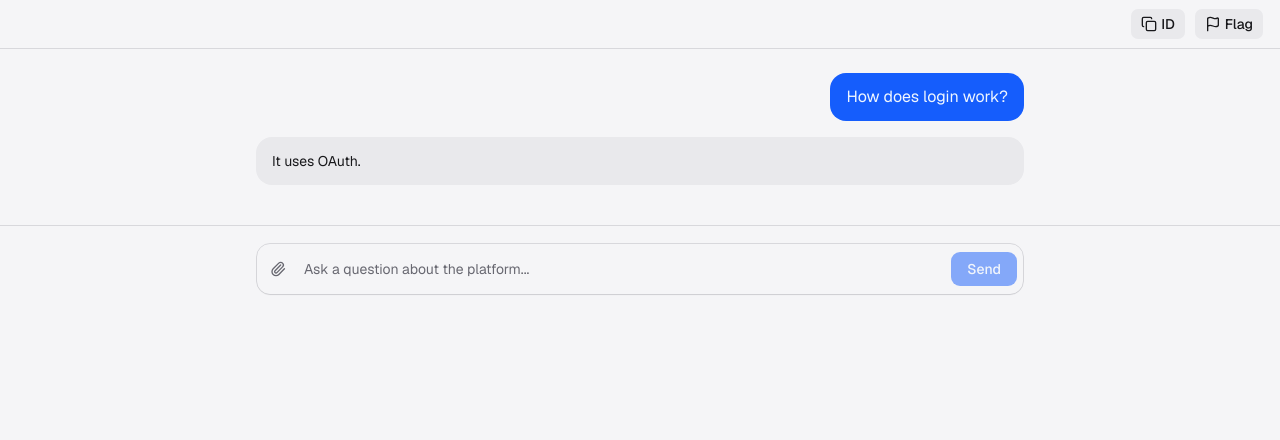
Test case: ChatThread › a repeated text_break does not open an empty bubble
Expected: the text "It uses OAuth." is shown, [272,152,361,170]
Type "How?" into the text box named "message" at [622, 269], box [294,251,950,287]
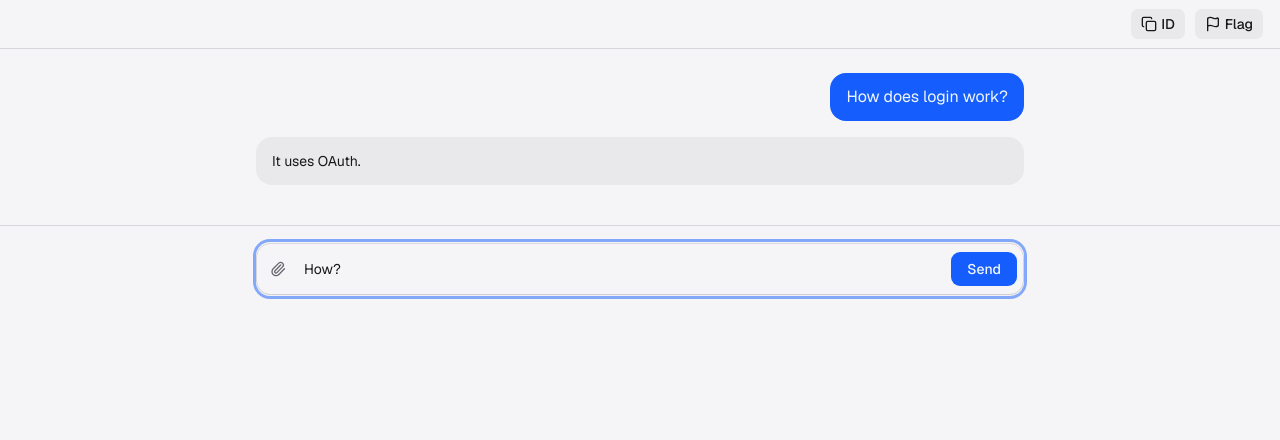
Click the button "Send" at [984, 269], box [950,251,1018,287]
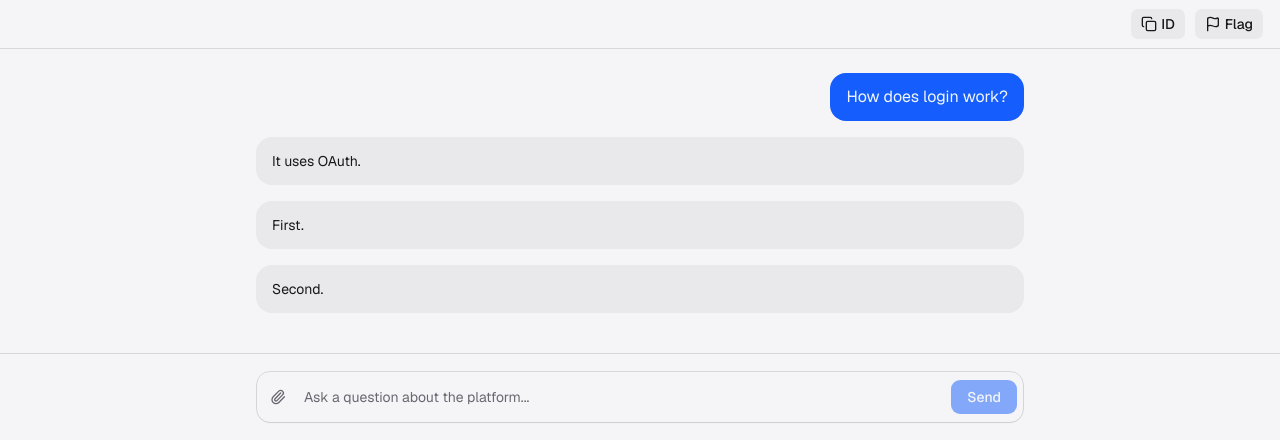
Expected: the text "Second." is shown, [272,280,323,298]
